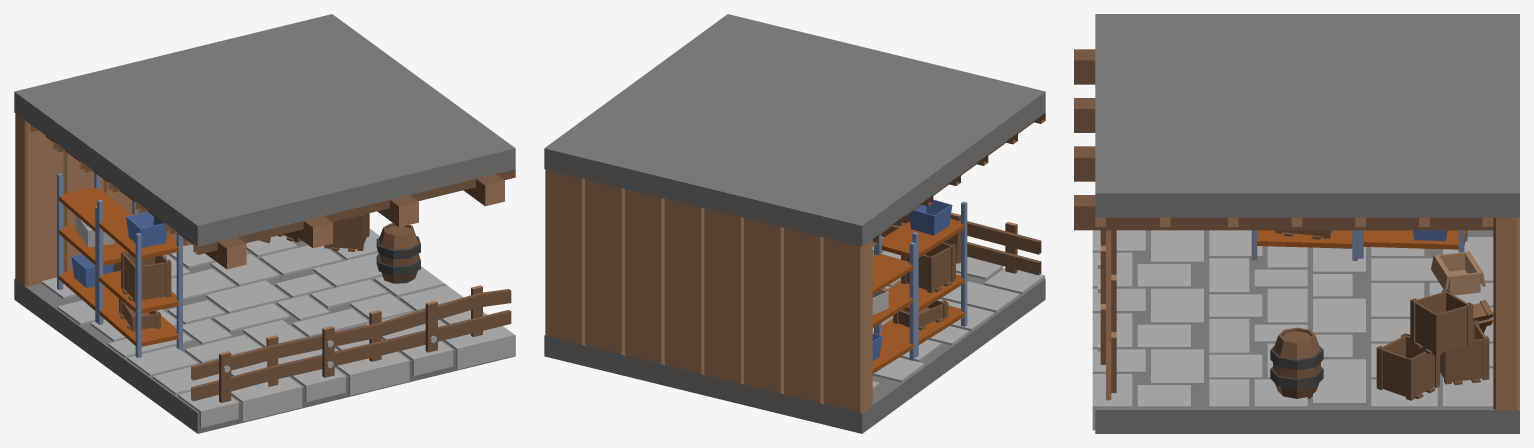
The model's file is ResourceStorage_Level_01_StraightLeftRight.fbx.
The picture shows the model from 3 angles, left to right: view 1: azimuth 30°, elevation 25°; view 2: azimuth 150°, elevation 25°; view 3: azimuth 270°, elevation 25°; orthographic projection. The views are drawn at different scales.
Visible parts, largest first — view 1: ResourceStorage_Level_01_StraightLeftRight; view 2: ResourceStorage_Level_01_StraightLeftRight; view 3: ResourceStorage_Level_01_StraightLeftRight.
Boxes of the visible parts, bbox=[...] form: ResourceStorage_Level_01_StraightLeftRight: bbox=[14, 14, 515, 433]; ResourceStorage_Level_01_StraightLeftRight: bbox=[544, 14, 1045, 433]; ResourceStorage_Level_01_StraightLeftRight: bbox=[1074, 14, 1519, 433].
Size of the model in its own units: 8 by 5 by 8.4.
